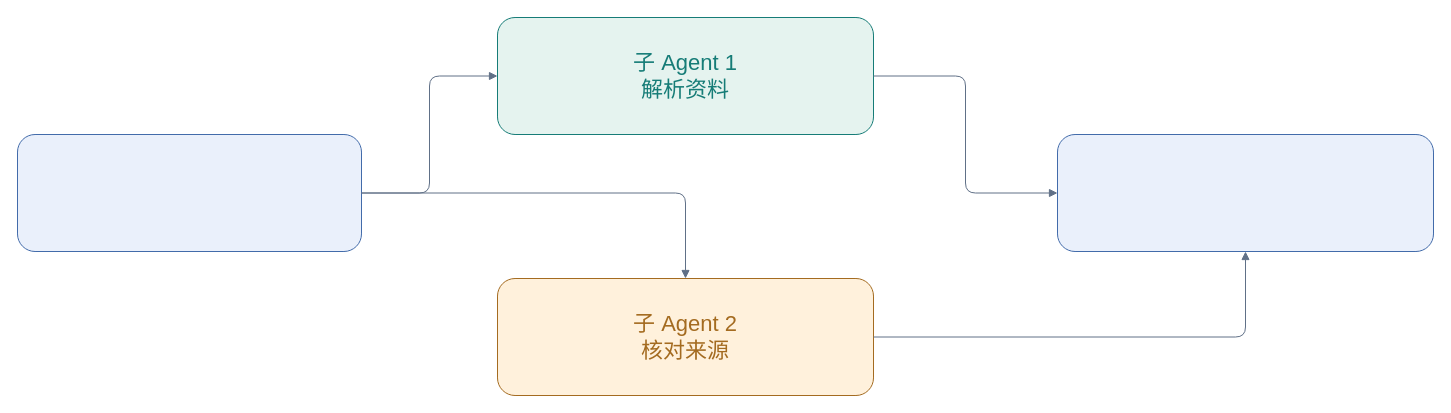
Image size: 1451x413. Some labels were removed from this diagram. Here are the shapes that lost their labels. From the top down, the centre of each, then its label:
the point at 189,193: 根任务：整理课程资料
the point at 1245,193: 汇总步骤 等待必要结果齐备
